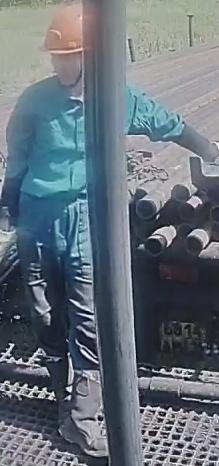gloves: (0, 221, 24, 267), (200, 127, 219, 173)
helmet: (39, 3, 84, 57)
vest: (0, 78, 86, 228)
